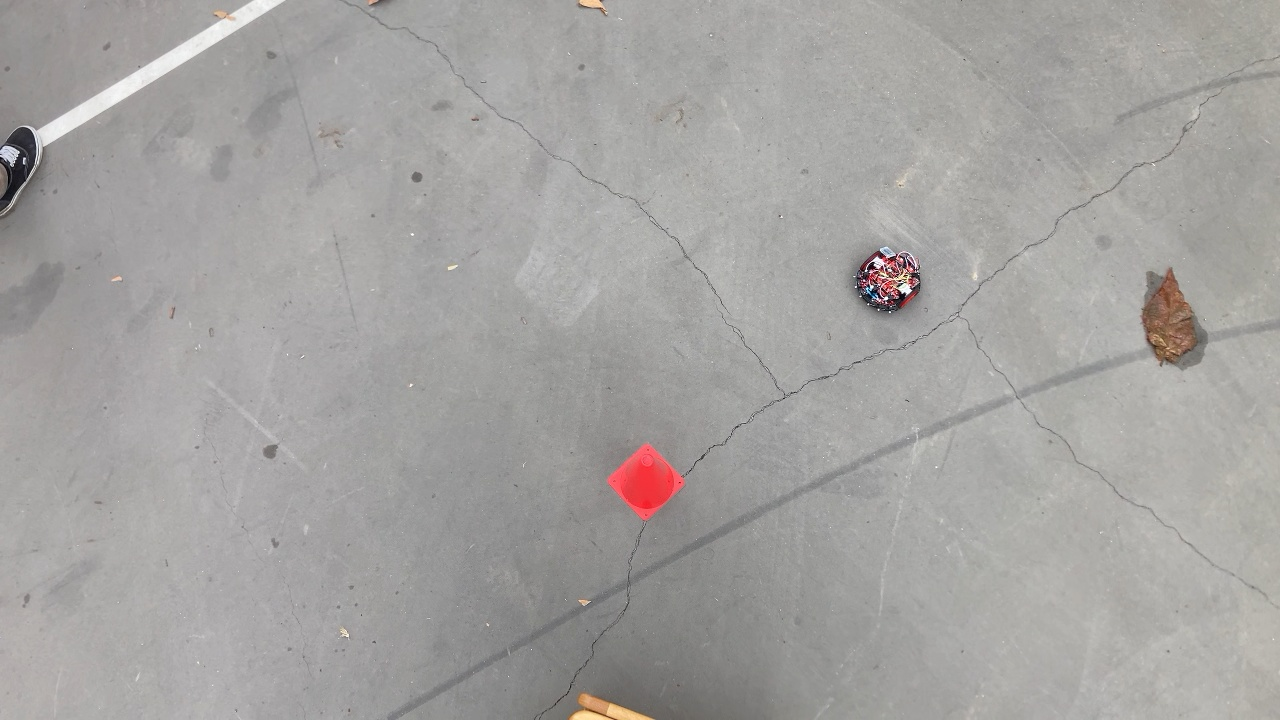red_cone: (602, 443, 686, 520)
robot: (849, 243, 925, 317)
